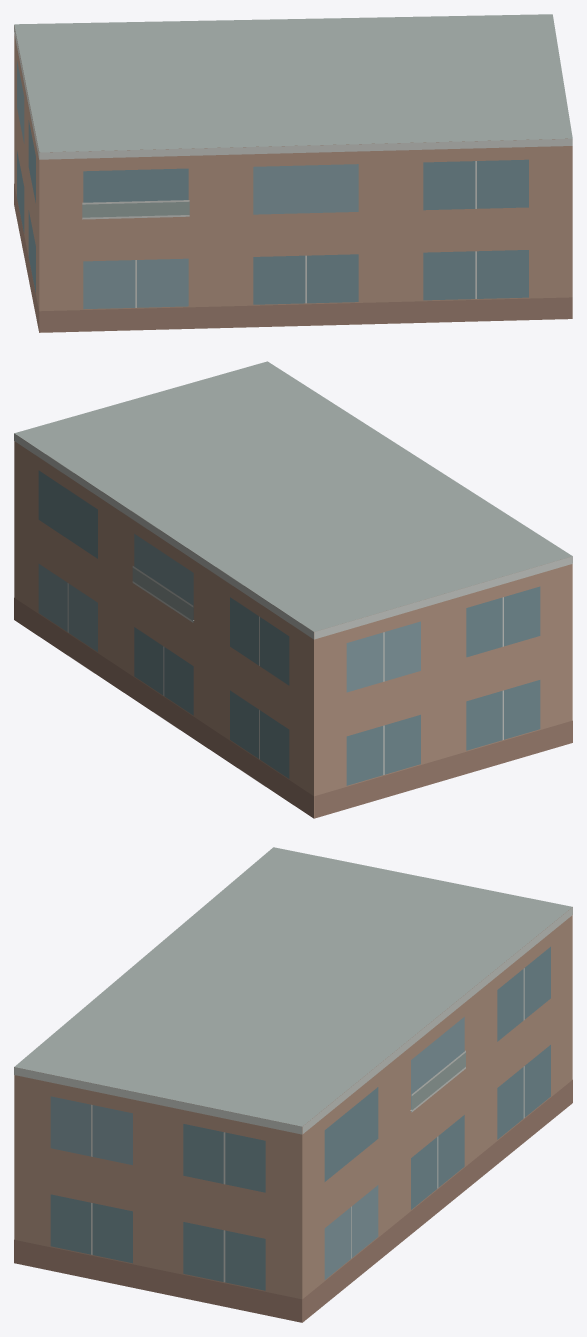
File: survey-upis-32890947.glb
3 views of the same model, one above another, from view 1: azimuth 30°, elevation 25°; view 2: azimuth 150°, elevation 25°; view 3: azimuth 270°, elevation 25° (orthographic). The views are drawn at different scales.
Parts seen in each view (by area): view 1: survey-upis-32890947.tmp; view 2: survey-upis-32890947.tmp; view 3: survey-upis-32890947.tmp.
Part boxes in pixels (box(x1,y1,x2,y2)): survey-upis-32890947.tmp: box(14, 14, 572, 332); survey-upis-32890947.tmp: box(14, 361, 572, 818); survey-upis-32890947.tmp: box(14, 847, 572, 1322).
Size of the model in its own units: 18.35 by 6 by 15.5.
